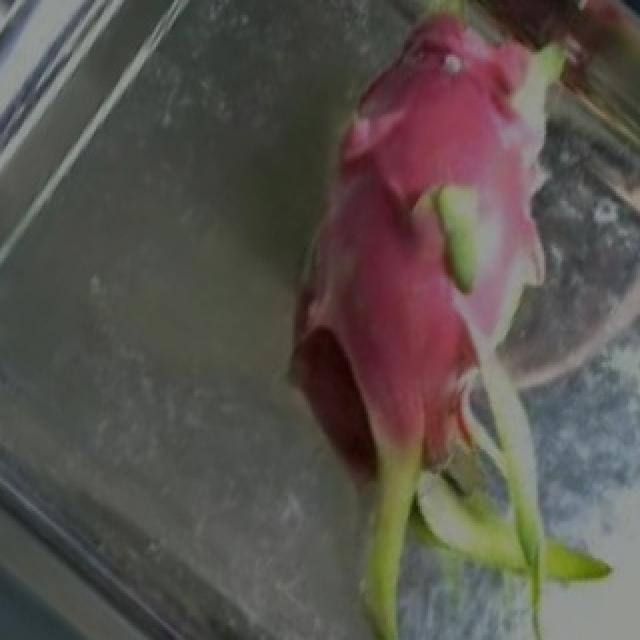fruit: (228, 0, 640, 417), (228, 223, 640, 638)
